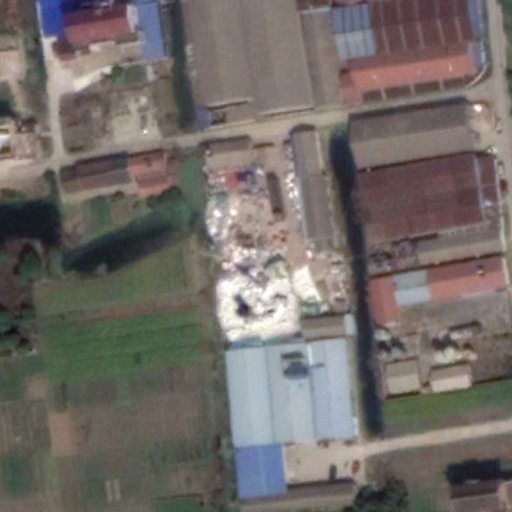msw: (208, 210, 319, 350)
